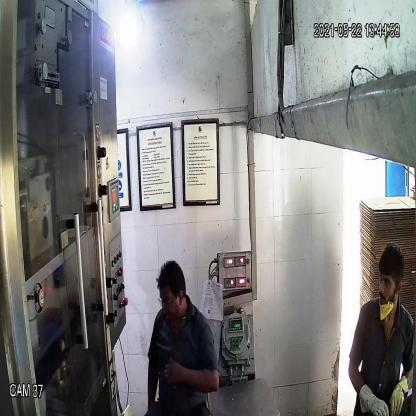goggles: (157, 295, 181, 312)
no_goggles: (377, 274, 400, 290)
